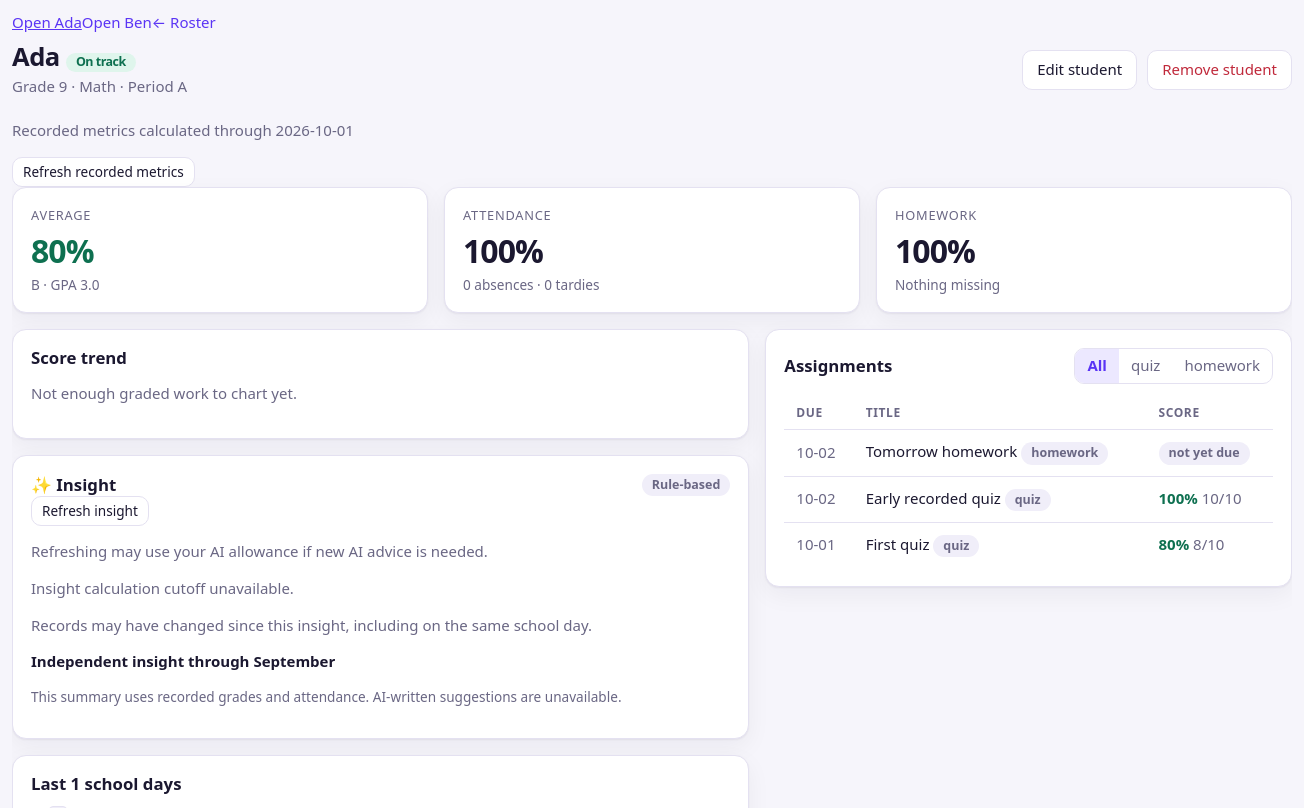
it: keeps typed404 fatal for cached detail and never retries it
The image size is (1304, 808).
Expected: the heading "Ada On track" is shown, [12,39,136,74]
Click the button "Edit student" at (1080, 70), box [1022,50,1137,90]
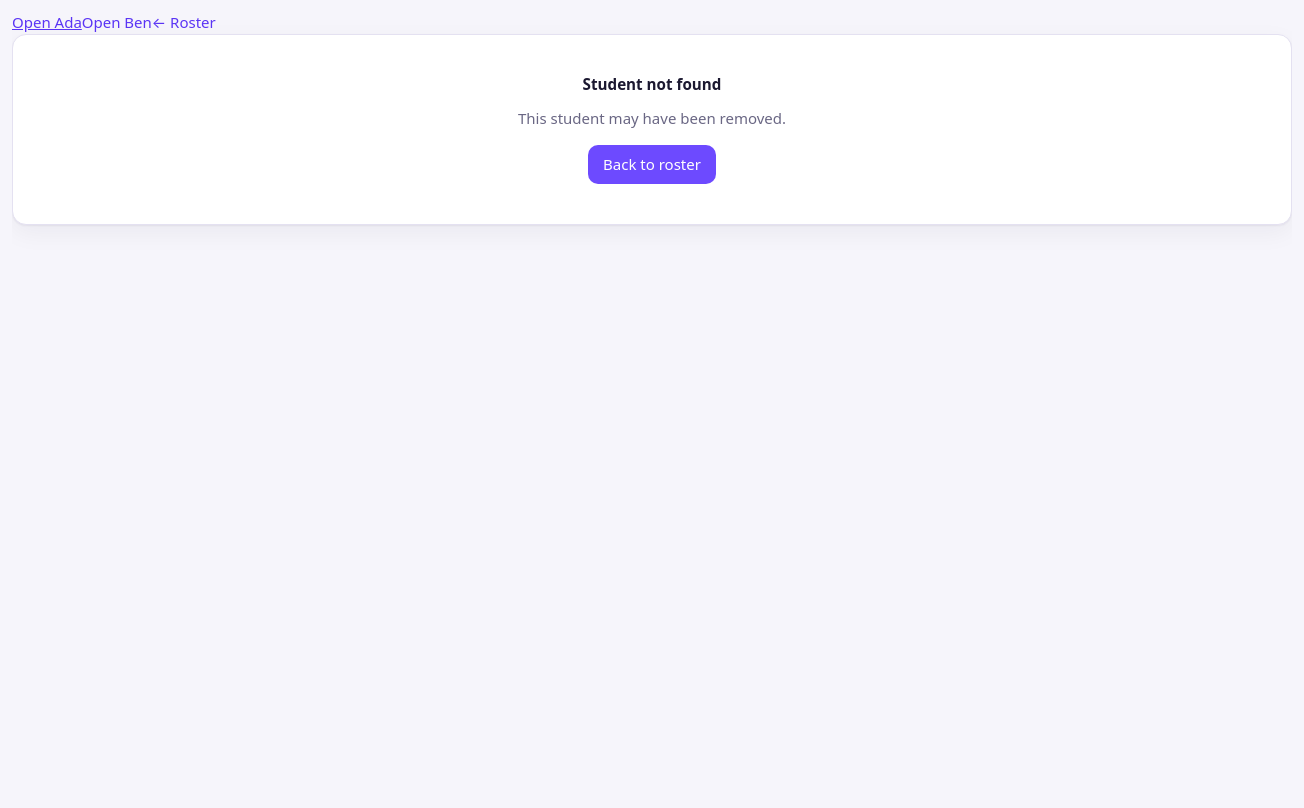
Expected: the heading "Student not found" is shown, [583,74,721,94]
Expected: the text "Recorded metrics calculated through" is gone
